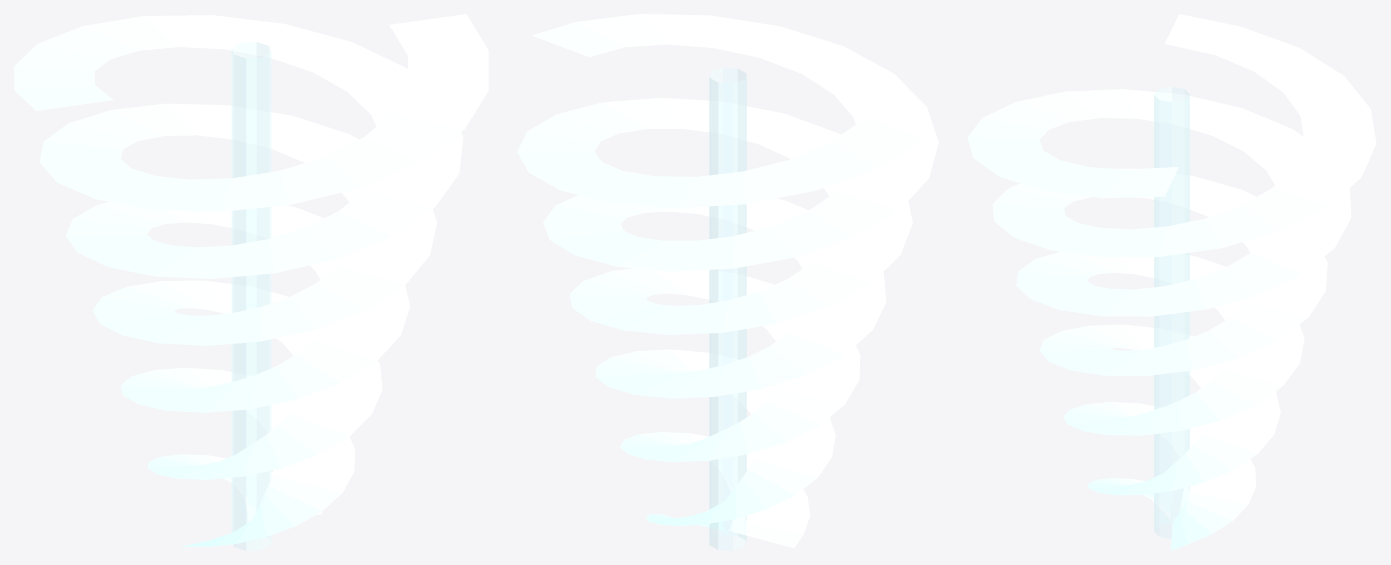
The model's file is fx_current_vortex.glb.
The picture shows the model from 3 angles, left to right: view 1: azimuth 30°, elevation 25°; view 2: azimuth 150°, elevation 25°; view 3: azimuth 270°, elevation 25°; orthographic projection. The views are drawn at different scales.
Visible parts, largest first — view 1: fx_current_vortex_beam, fx_current_vortex_glass; view 2: fx_current_vortex_beam, fx_current_vortex_glass; view 3: fx_current_vortex_beam, fx_current_vortex_glass.
Part boxes in pixels (left/top/right/bottom): fx_current_vortex_beam: left=14, top=14, right=488, bottom=546; fx_current_vortex_glass: left=231, top=42, right=271, bottom=550; fx_current_vortex_beam: left=517, top=14, right=938, bottom=547; fx_current_vortex_glass: left=709, top=68, right=746, bottom=550; fx_current_vortex_beam: left=967, top=14, right=1376, bottom=550; fx_current_vortex_glass: left=1154, top=87, right=1189, bottom=538.
Bounding box in the file's own units: 7.18 × 8 × 6.79.
